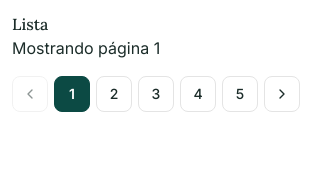
it: Paginacao › troca de página, leva o foco ao início da lista e anuncia a posição
Step 1. Click the button named "Próxima página" → (282, 94), box [264,76,300,112]
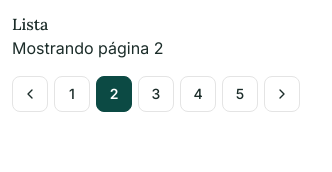
Expected: the text "Mostrando página 2" is shown, [12,38,163,58]
Step 2. Click the button named "Página 5" → (240, 94), box [222,76,258,112]
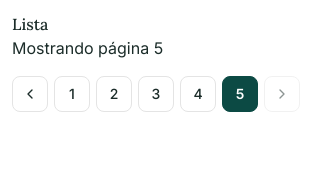
Expected: the text "Mostrando página 5" is shown, [12,38,163,58]
